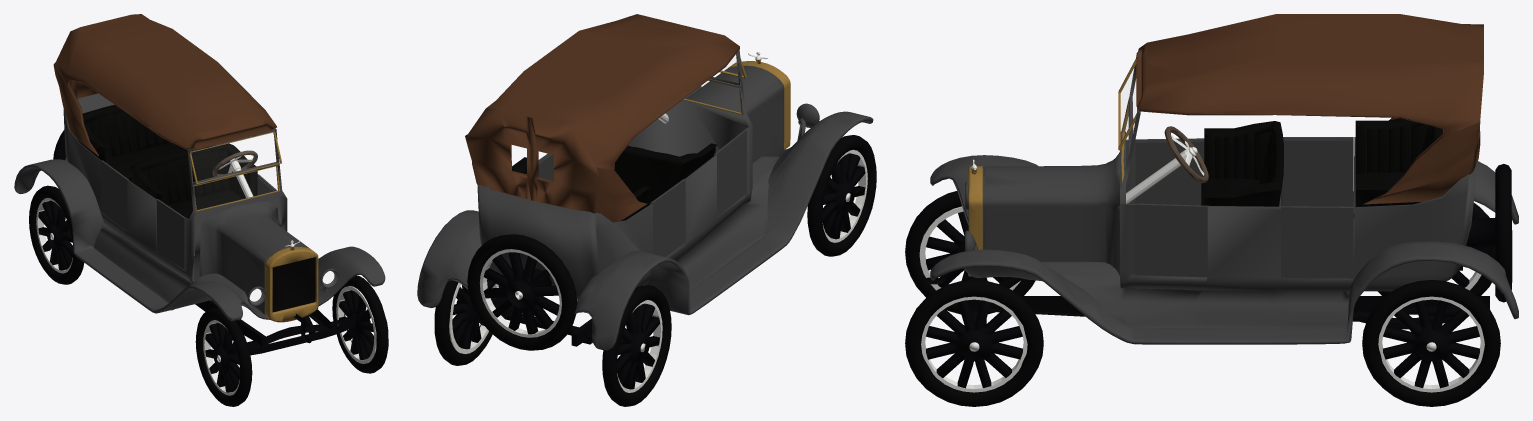
Rendered from ford-model-t.glb.
3 renders of one model, left to right at view 1: azimuth 30°, elevation 25°; view 2: azimuth 150°, elevation 25°; view 3: azimuth 270°, elevation 25°, orthographic. The views are drawn at different scales.
Parts seen in each view (by area): view 1: body_body_0; view 2: body_body_0; view 3: body_body_0.
Part boxes in pixels (left/top/right/bottom): body_body_0: left=14, top=14, right=388, bottom=406; body_body_0: left=417, top=14, right=876, bottom=406; body_body_0: left=905, top=14, right=1518, bottom=406.
Bounding box in the file's own units: 335 × 463 × 798.
Materials: 3 (3 with a texture image).
